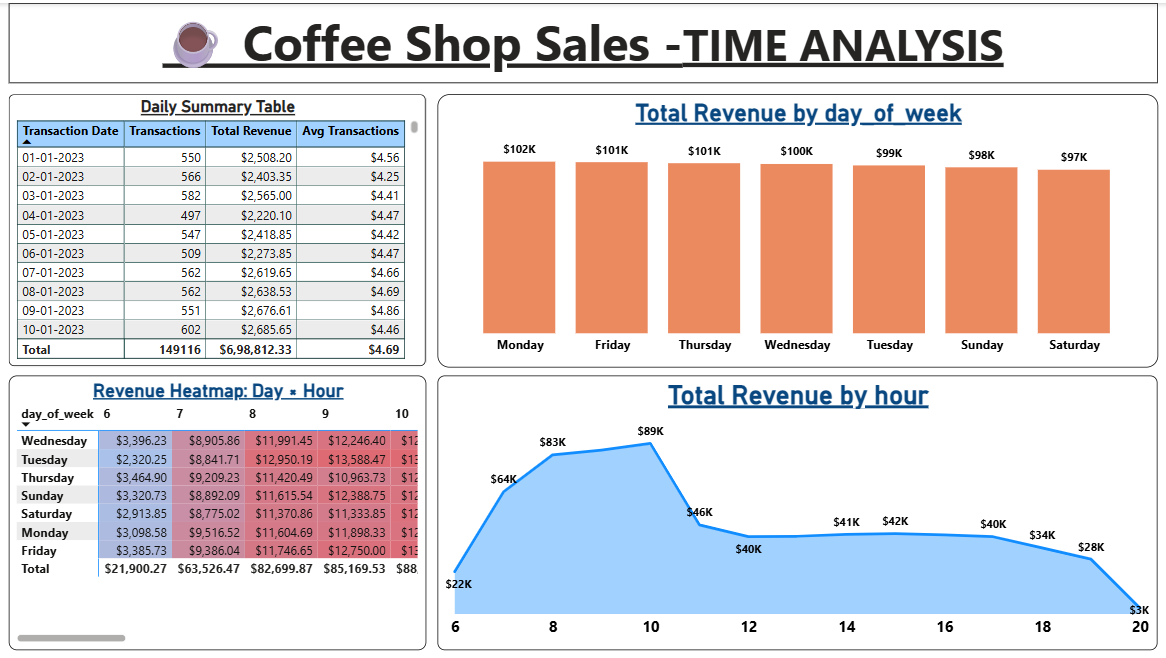

This screenshot's page, from the dashboard's own definition file:
{"tool":"powerbi","page":{"name":"TIME ANALYSIS","canvas":[1280,720],"ordinal":2},"visuals":[{"type":"textbox","box":[10,0,1261.4,88.3],"z":0},{"type":"tableEx","title":"Daily Summary Table","fields":{"Values":["projects coffee_shop_sales.transaction_date","projects coffee_shop_sales.Total Transactions","Sum(projects coffee_shop_sales.revenue)","projects coffee_shop_sales.Avg Transactions"]},"box":[10,100.8,457.8,298.6],"z":1000},{"type":"lineChart","fields":{"Category":["projects coffee_shop_sales.hour"],"Y":["projects coffee_shop_sales.Total Revenue"]},"box":[480.3,408.9,790.4,301.9],"z":2000},{"type":"columnChart","fields":{"Category":["projects coffee_shop_sales.day_of_week"],"Y":["projects coffee_shop_sales.Total Revenue"]},"box":[480.2,100.8,791.2,299.8],"z":3000},{"type":"pivotTable","title":"Revenue Heatmap: Day × Hour","fields":{"Rows":["projects coffee_shop_sales.day_of_week"],"Columns":["projects coffee_shop_sales.hour"],"Values":["projects coffee_shop_sales.Total Revenue"]},"box":[9.6,408.9,458.3,301.9],"z":4000}]}

Visuals, with their boxes in screenshot pixels (x1, y1, x2, y2), scaled from the page's 1280x720 canvas onto the 1166x658 screenshot:
textbox: bbox=(9, 0, 1158, 81)
"Daily Summary Table" tableEx: bbox=(9, 92, 426, 365)
lineChart - projects coffee_shop_sales.hour x projects coffee_shop_sales.Total Revenue: bbox=(438, 374, 1158, 650)
columnChart - projects coffee_shop_sales.day_of_week x projects coffee_shop_sales.Total Revenue: bbox=(437, 92, 1158, 366)
"Revenue Heatmap: Day × Hour" pivotTable: bbox=(9, 374, 426, 650)
